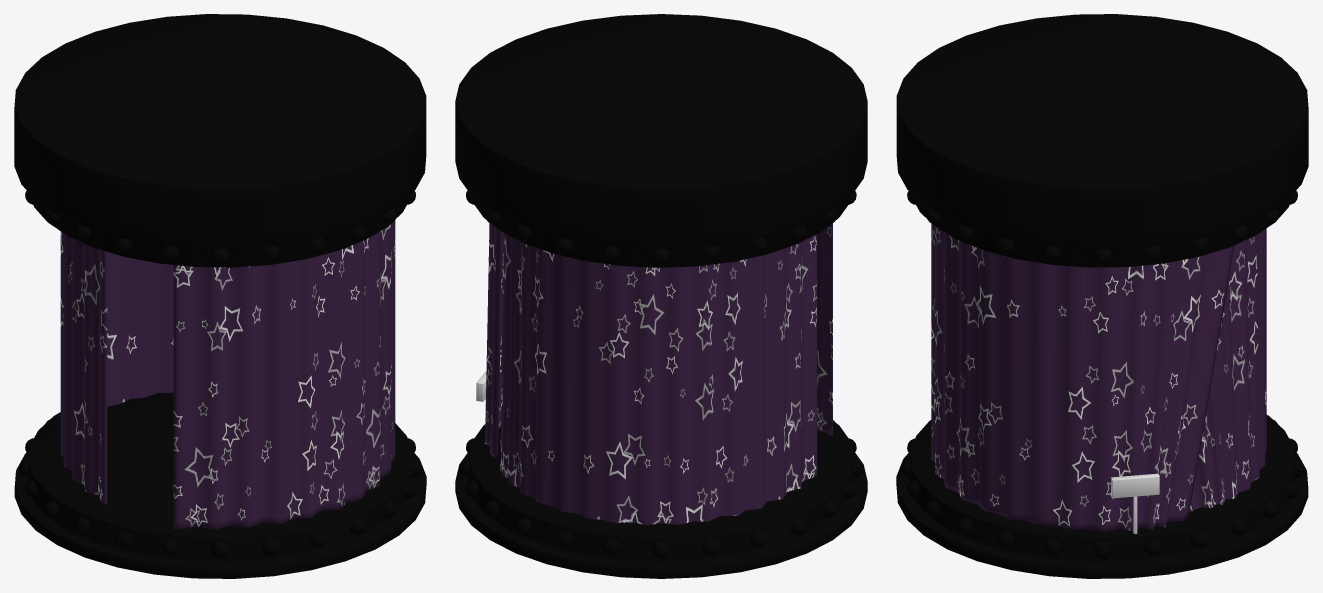
File: Foxy_Escenario.fbx
The picture shows the model from 3 angles, left to right: view 1: azimuth 30°, elevation 25°; view 2: azimuth 150°, elevation 25°; view 3: azimuth 270°, elevation 25°; orthographic projection.
Parts seen in each view (by area): view 1: Cylinder.011, Cylinder.012, Cylinder.013; view 2: Cylinder.011, Cylinder.013, Cylinder.012; view 3: Cylinder.011, Cylinder.012, Cylinder.013, Cube.053.
Part boxes in pixels (x1,y1,x2,y2): Cylinder.011: (14, 14, 426, 578); Cylinder.012: (173, 220, 395, 529); Cylinder.013: (60, 231, 173, 504); Cylinder.011: (455, 14, 867, 578); Cylinder.013: (500, 232, 817, 524); Cylinder.012: (485, 223, 832, 457); Cylinder.011: (896, 14, 1308, 578); Cylinder.012: (931, 223, 1234, 531); Cylinder.013: (1189, 228, 1266, 511); Cube.053: (1111, 473, 1159, 533).
Size of the model in its own units: 294 by 309 by 295.
3 materials, 1 textured.
